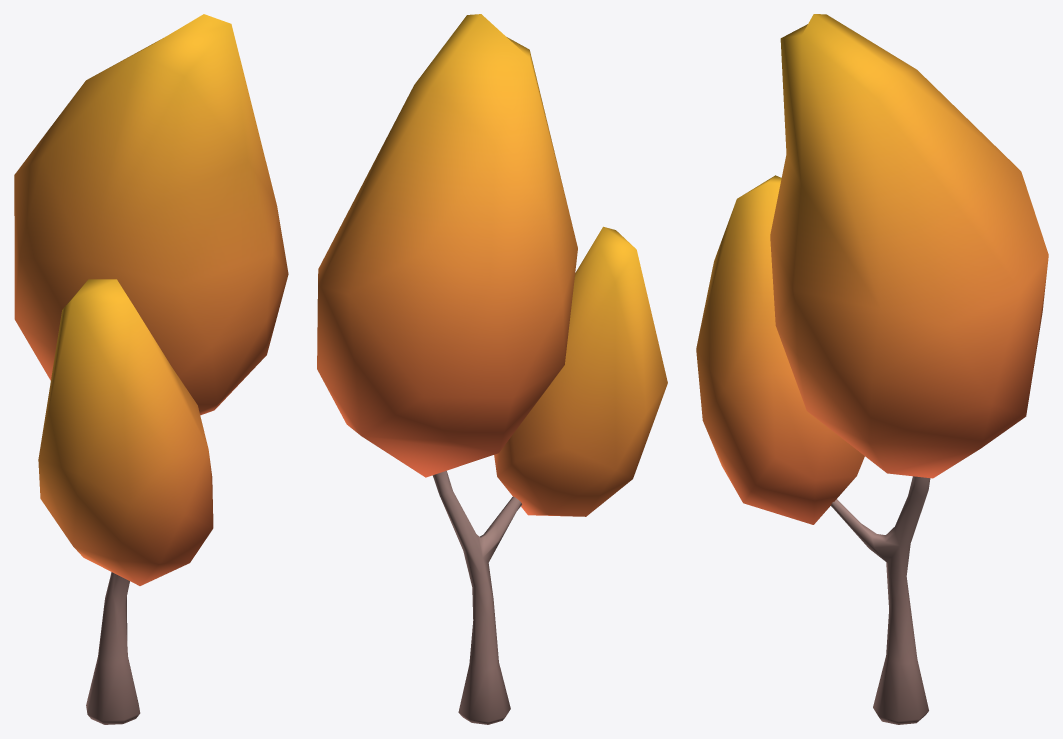
File: Tree01_S_Orange.fbx
3 views of the same model, side by side, from view 1: azimuth 30°, elevation 25°; view 2: azimuth 150°, elevation 25°; view 3: azimuth 270°, elevation 25° (orthographic). The views are drawn at different scales.
Parts seen in each view (by area): view 1: Tree01_S_Orange; view 2: Tree01_S_Orange; view 3: Tree01_S_Orange.
Part boxes in pixels (left/top/right/bottom): Tree01_S_Orange: left=14, top=14, right=288, bottom=724; Tree01_S_Orange: left=317, top=14, right=667, bottom=724; Tree01_S_Orange: left=696, top=14, right=1048, bottom=724.
Bounding box in the file's own units: 4.09 × 9.85 × 4.34.
